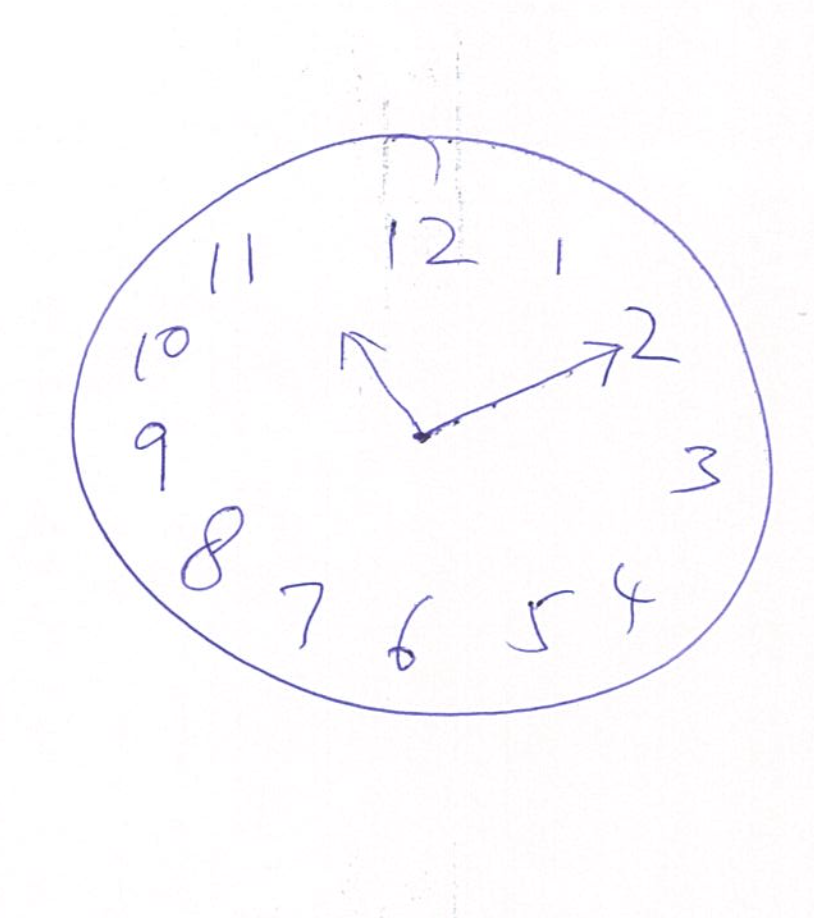1: (548, 229, 570, 285)
10: (123, 321, 194, 385)
11: (201, 234, 261, 297)
12: (379, 210, 481, 275)
2: (618, 297, 687, 370)
3: (668, 440, 725, 500)
4: (601, 559, 655, 640)
5: (503, 586, 577, 658)
6: (383, 586, 436, 674)
7: (276, 572, 326, 653)
8: (175, 500, 244, 602)
9: (125, 416, 177, 497)
contour: (61, 127, 778, 722)
hand: (333, 328, 618, 445)
top_left_arrow: (337, 326, 418, 436)
top_right_arrow: (418, 340, 628, 435)
